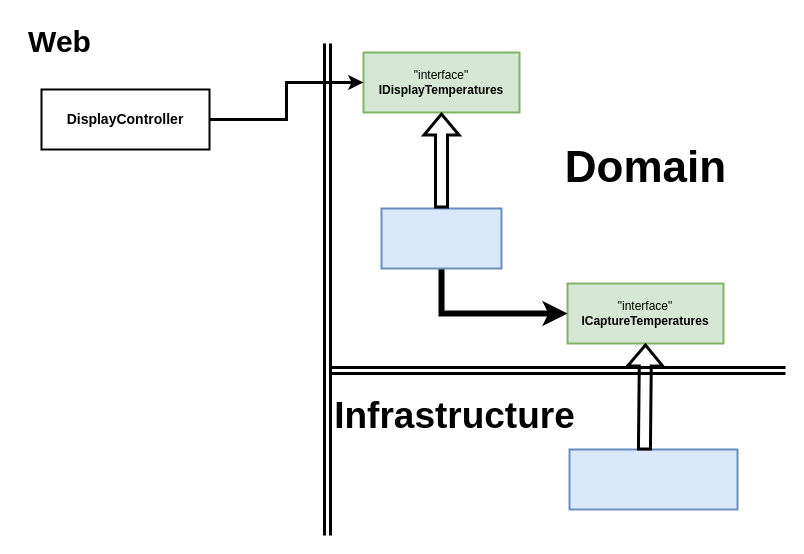
The diagram is 804 pixels wide and 554 high, and some of its shapes have lost their labels. The shapes that lost their labels are listed below. From the top down, each one's centre as x and y in pixels, then its label:
At point 441,238: "Sensor".
At point 653,479: "TemperaturesCaptor".
